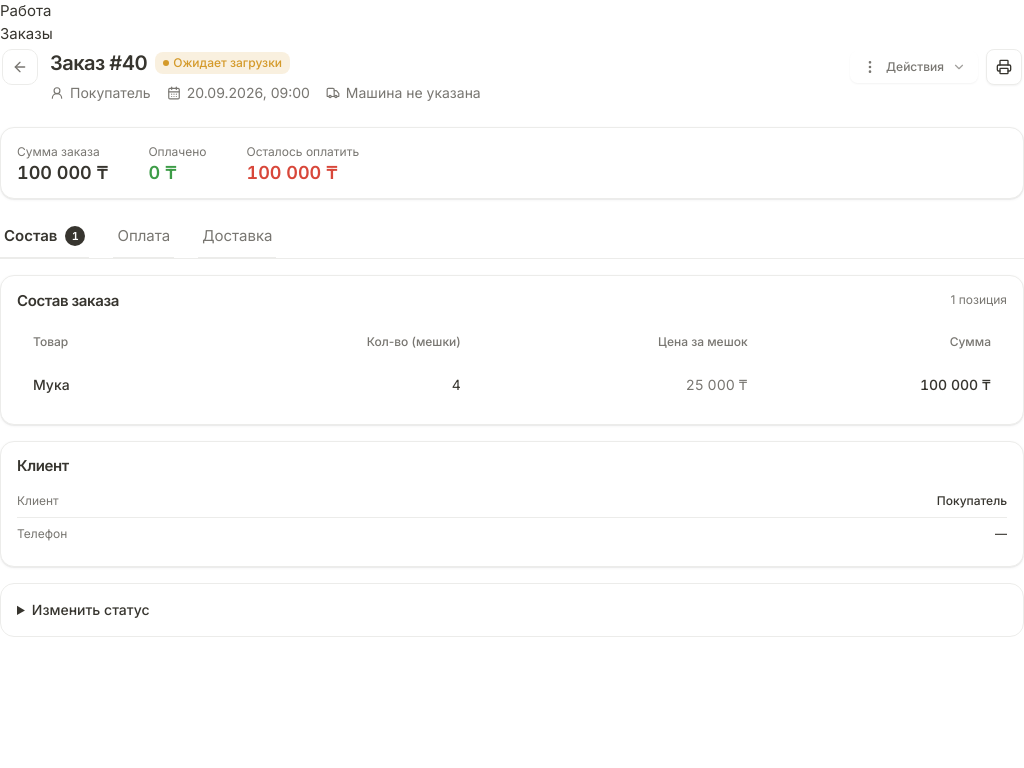
Test: sends a status request without the bag count for staff without orders.edit
This screenshot has width=1024, height=768.
Expected: the heading "Заказ #40" is shown, [50,49,147,77]
Click the heading "Изменить статус": click(91, 610) [32,601,150,618]
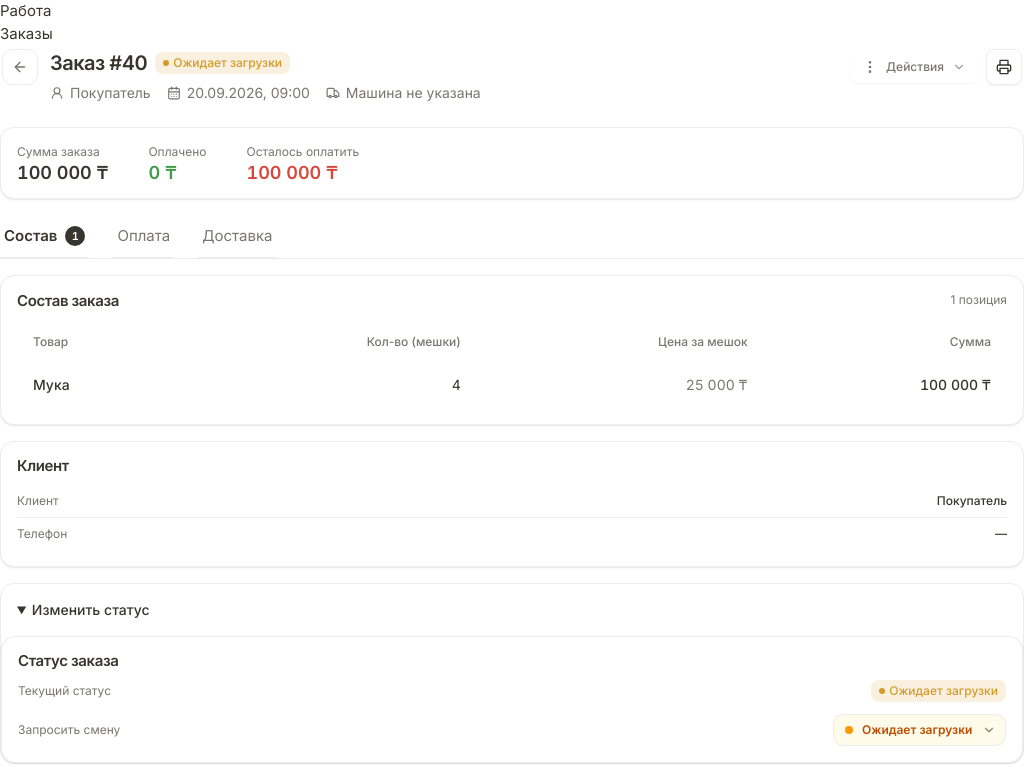
Select "Отменён" in the dropdown named "Статус заказа": (920, 730) [833,714,1006,746]
(page scrolled)
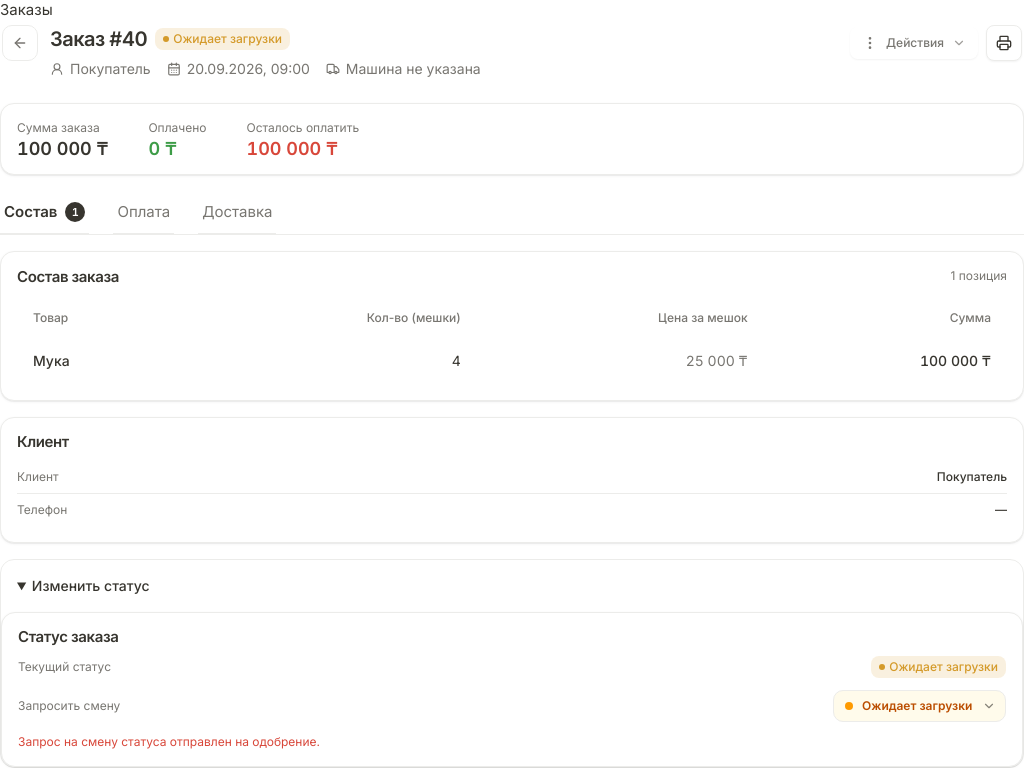
Expected: the text "Запрос на смену статуса отправлен на одобрение." is shown, [18,734,320,749]
